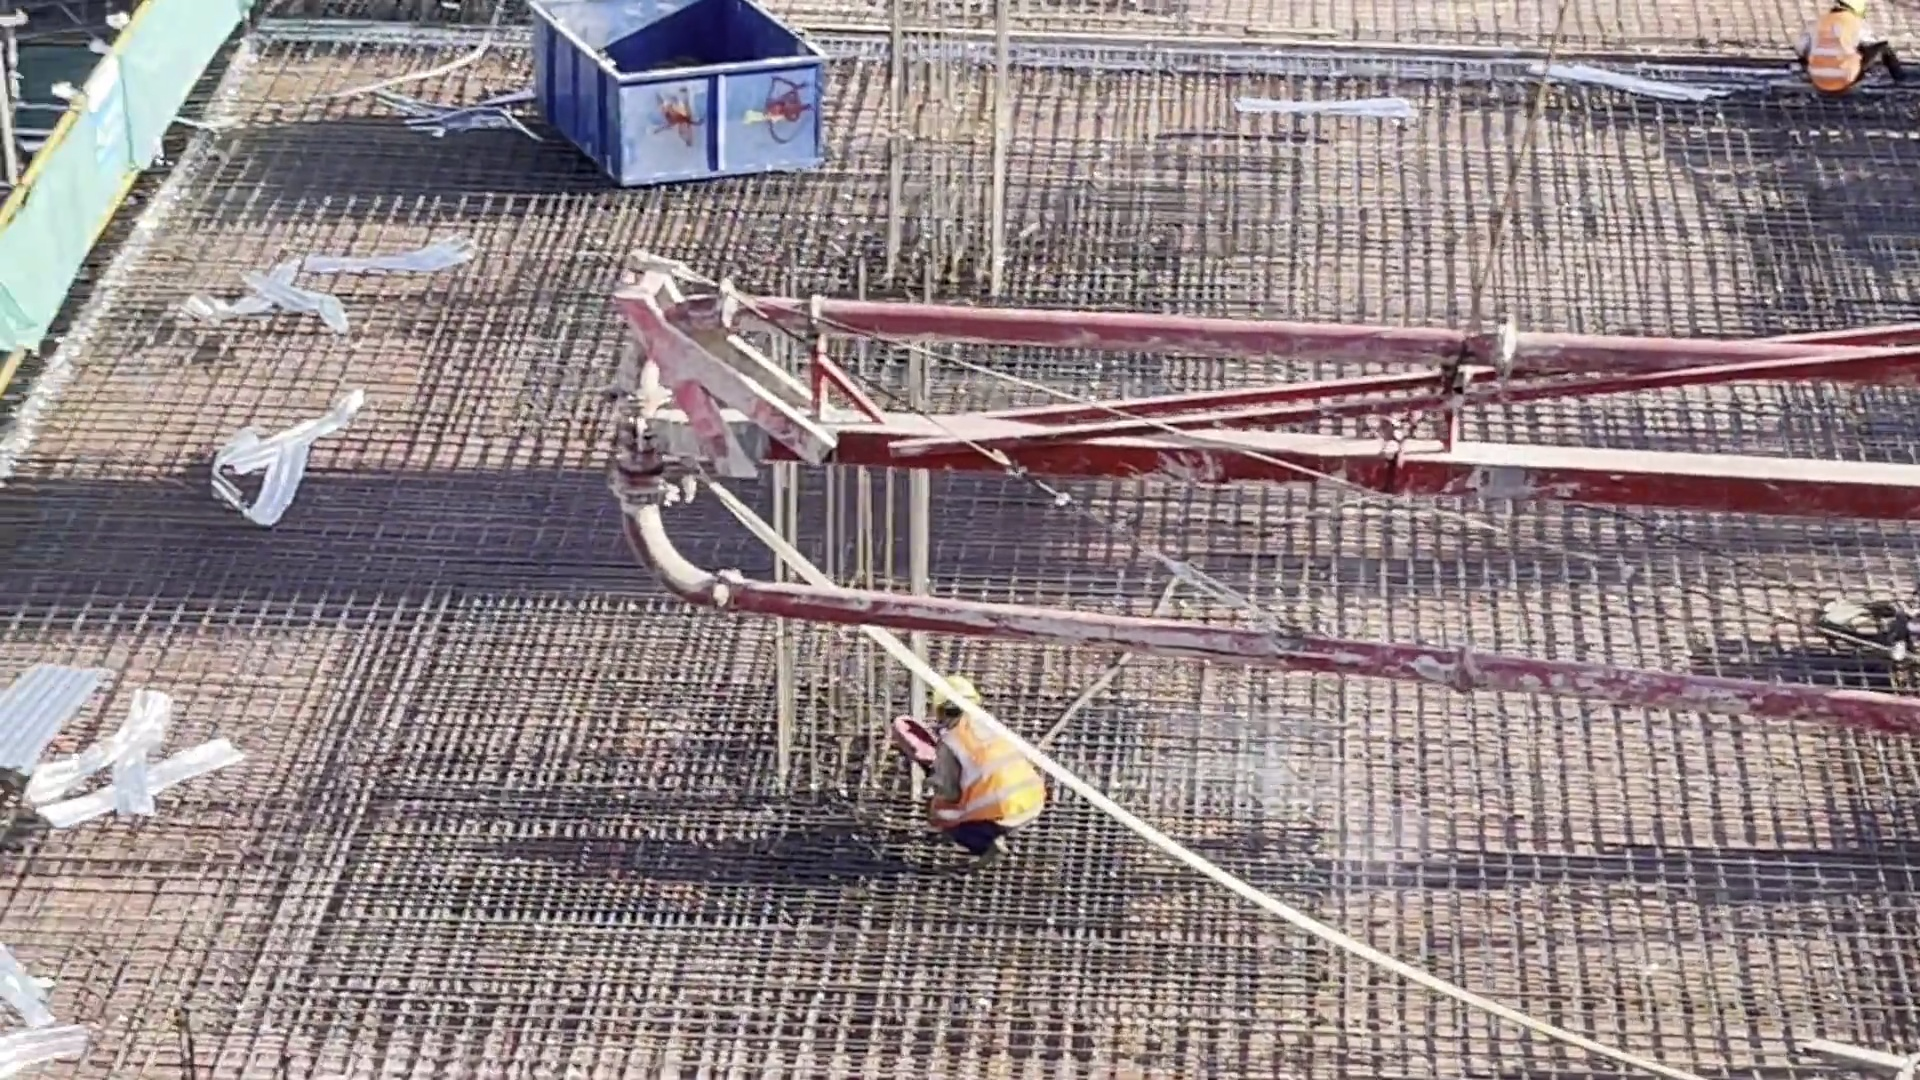helmet: (932, 680, 981, 708), (1821, 1, 1868, 16)
person: (905, 672, 1051, 858), (1777, 1, 1904, 98)
vest: (952, 725, 1039, 829), (1807, 27, 1860, 89)
